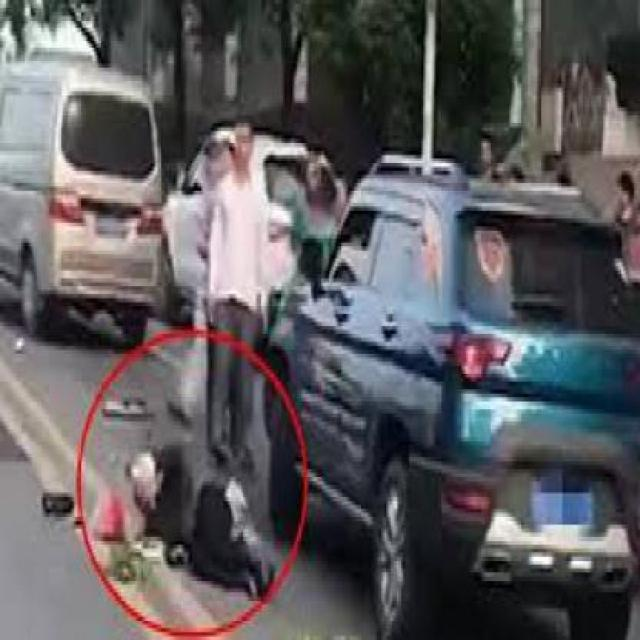fall: (105, 409, 282, 605)
